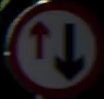Two way: (21, 13, 93, 78)
